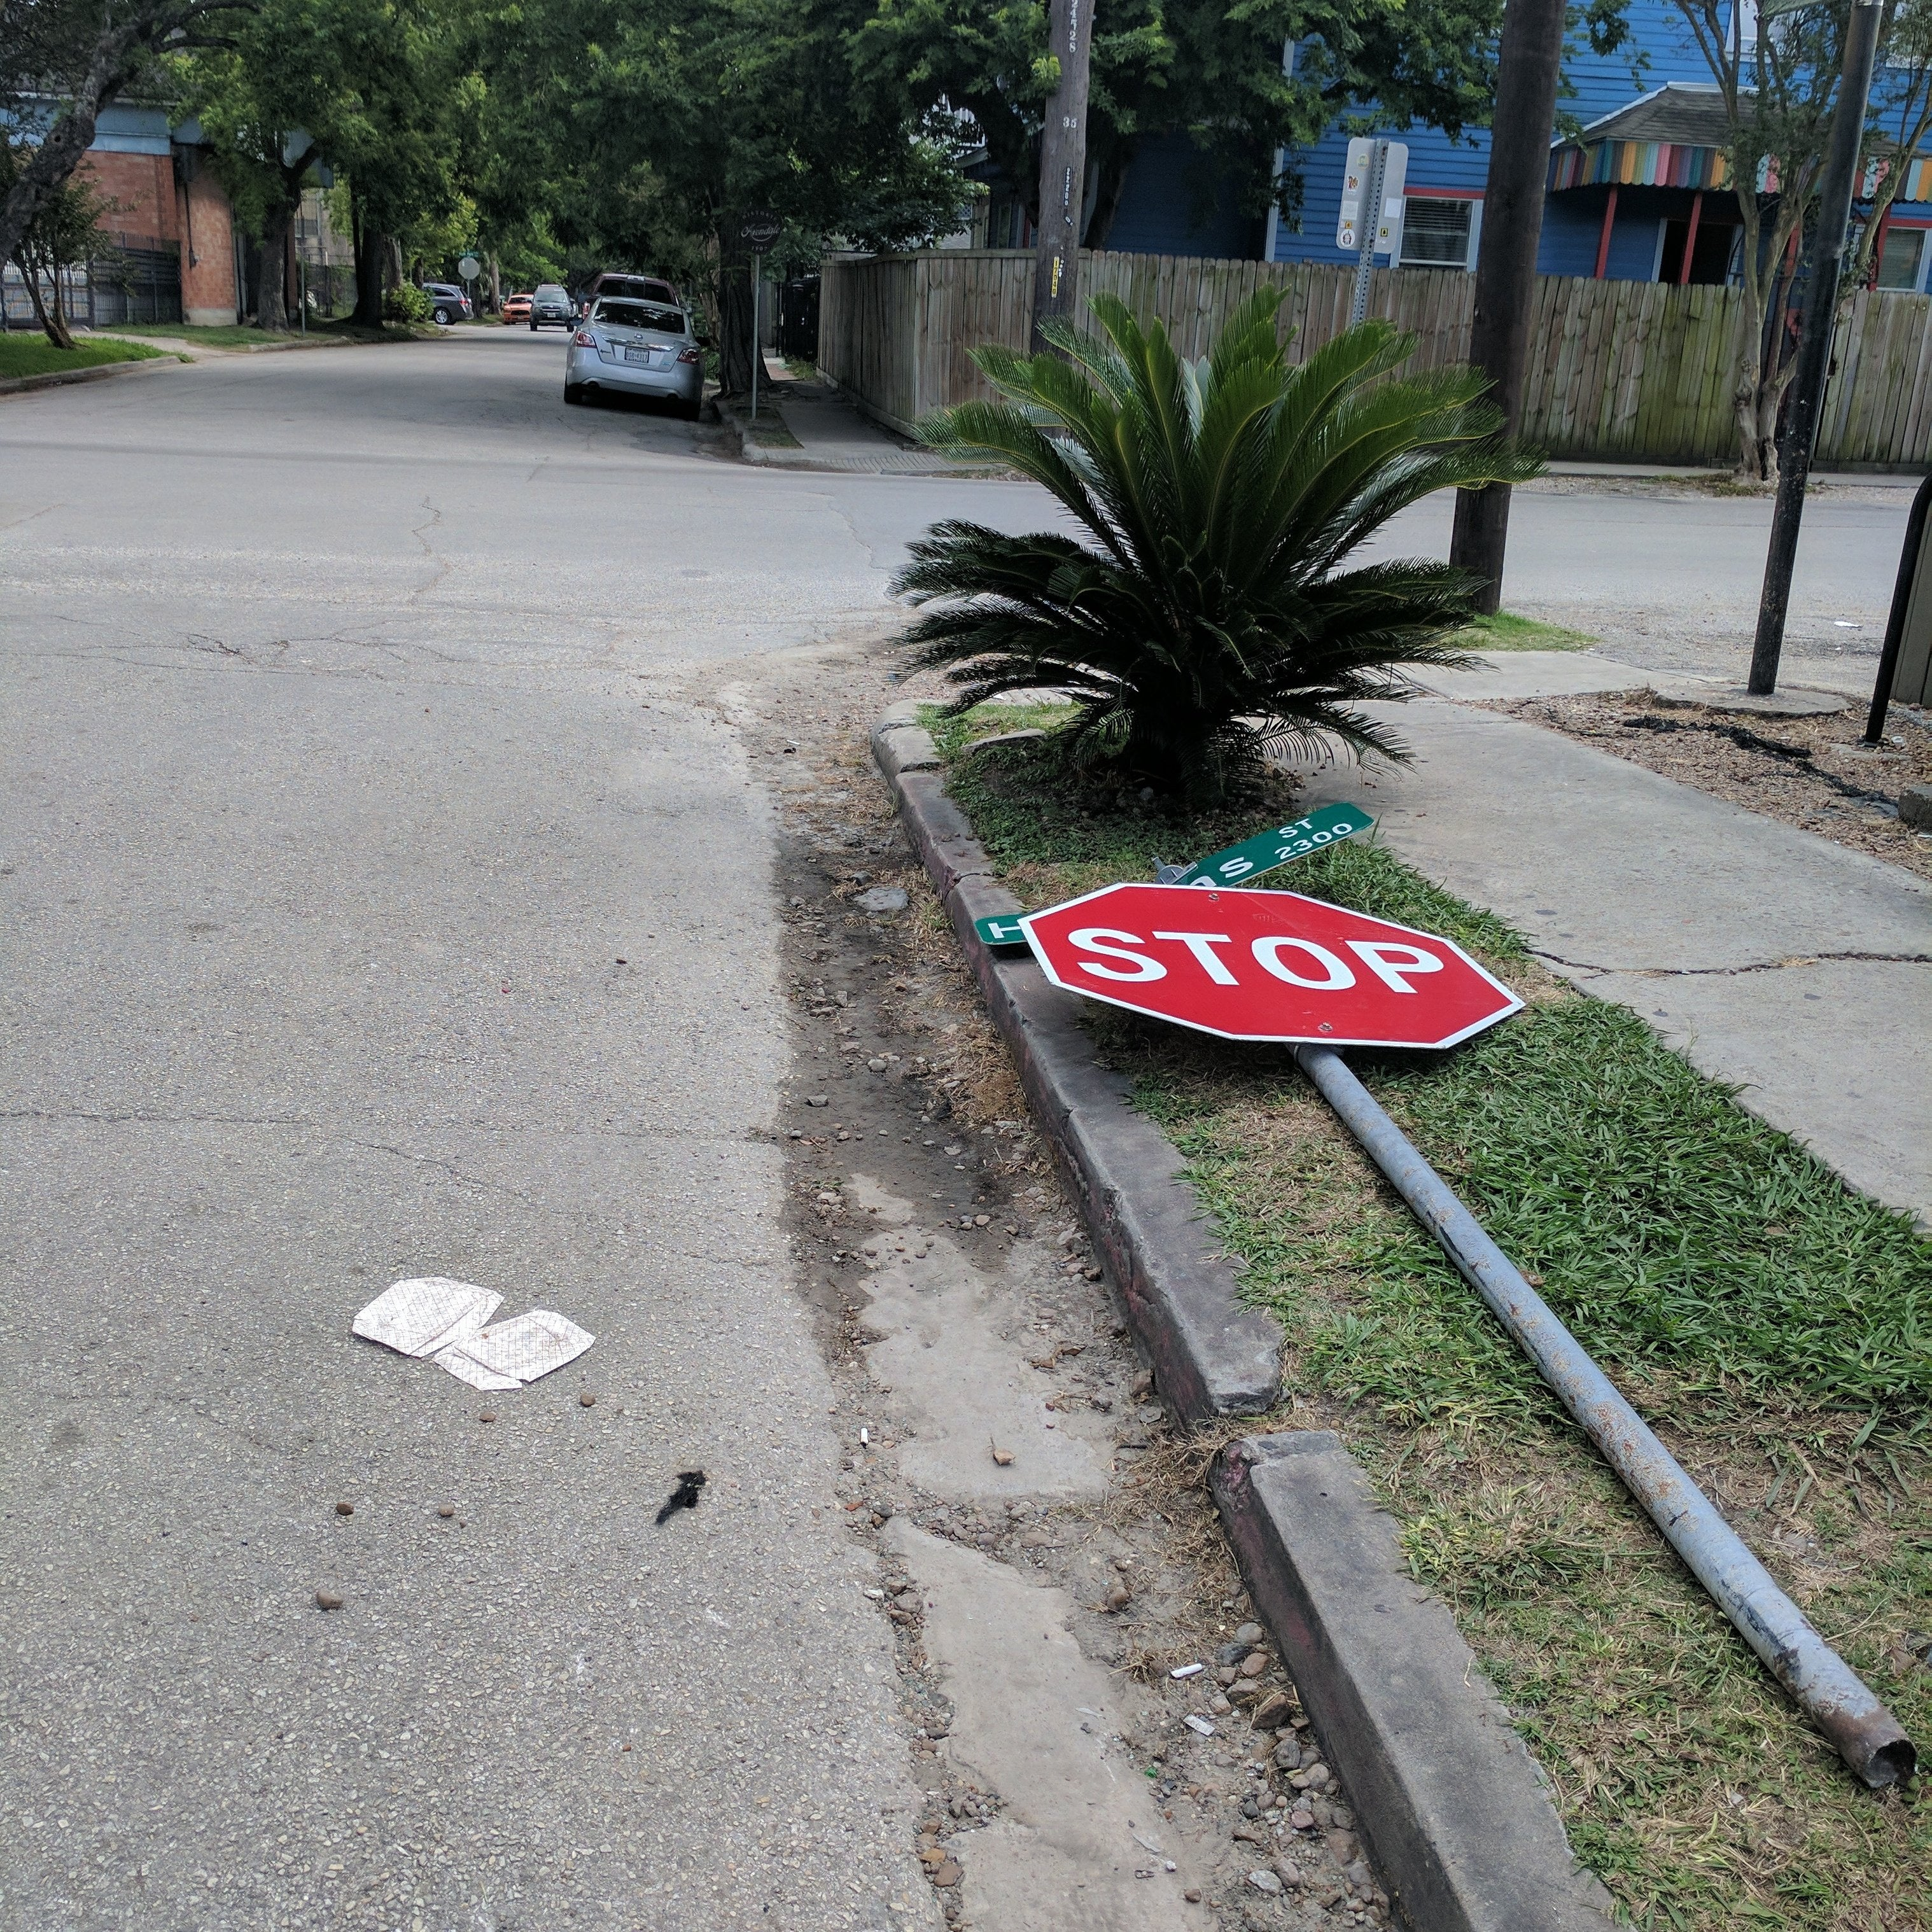stop_sign: (1017, 878, 1529, 1058)
